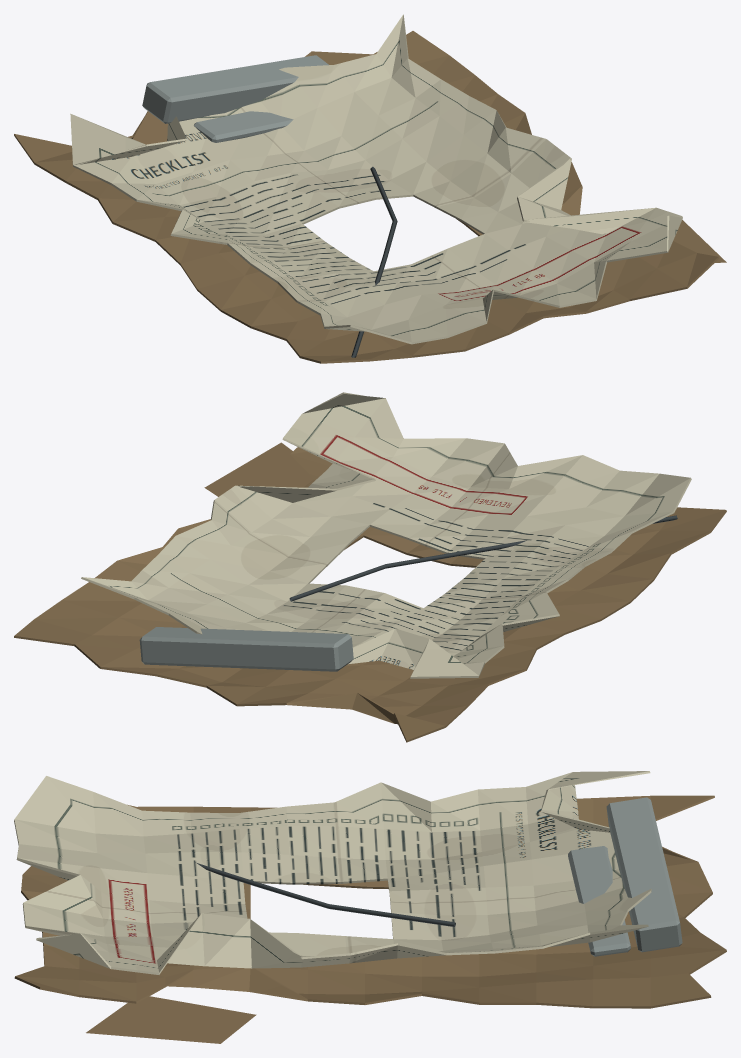
Rendered from DS_Clue_Clipboard_Damaged_V02.fbx.
The picture shows the model from 3 angles, top to bottom: view 1: azimuth 30°, elevation 25°; view 2: azimuth 150°, elevation 25°; view 3: azimuth 270°, elevation 25°; orthographic projection. The views are drawn at different scales.
Parts seen in each view (by area): view 1: DS_Clue_Clipboard_Damaged_V02; view 2: DS_Clue_Clipboard_Damaged_V02; view 3: DS_Clue_Clipboard_Damaged_V02.
Part boxes in pixels (left/top/right/bottom): DS_Clue_Clipboard_Damaged_V02: left=14, top=14, right=726, bottom=363; DS_Clue_Clipboard_Damaged_V02: left=14, top=392, right=726, bottom=742; DS_Clue_Clipboard_Damaged_V02: left=14, top=771, right=726, bottom=1043.
Bounding box in the file's own units: 61.19 × 10.5 × 79.06.
Materials: 4 (1 with a texture image).
